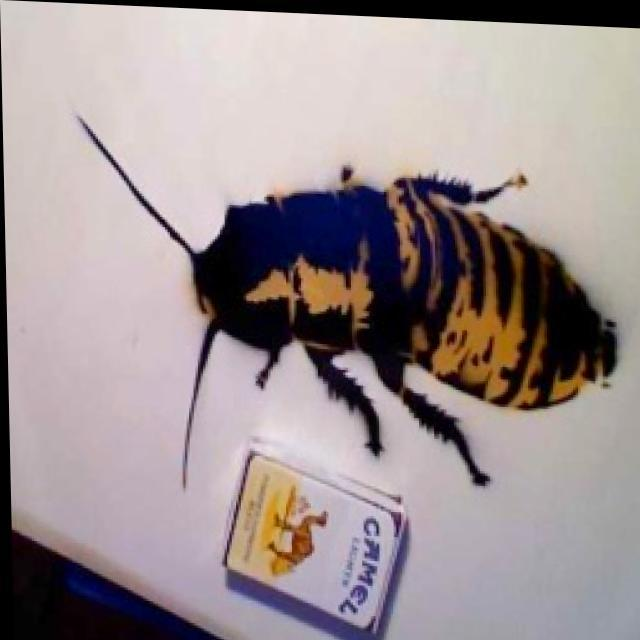cockroach: (68, 105, 623, 495)
